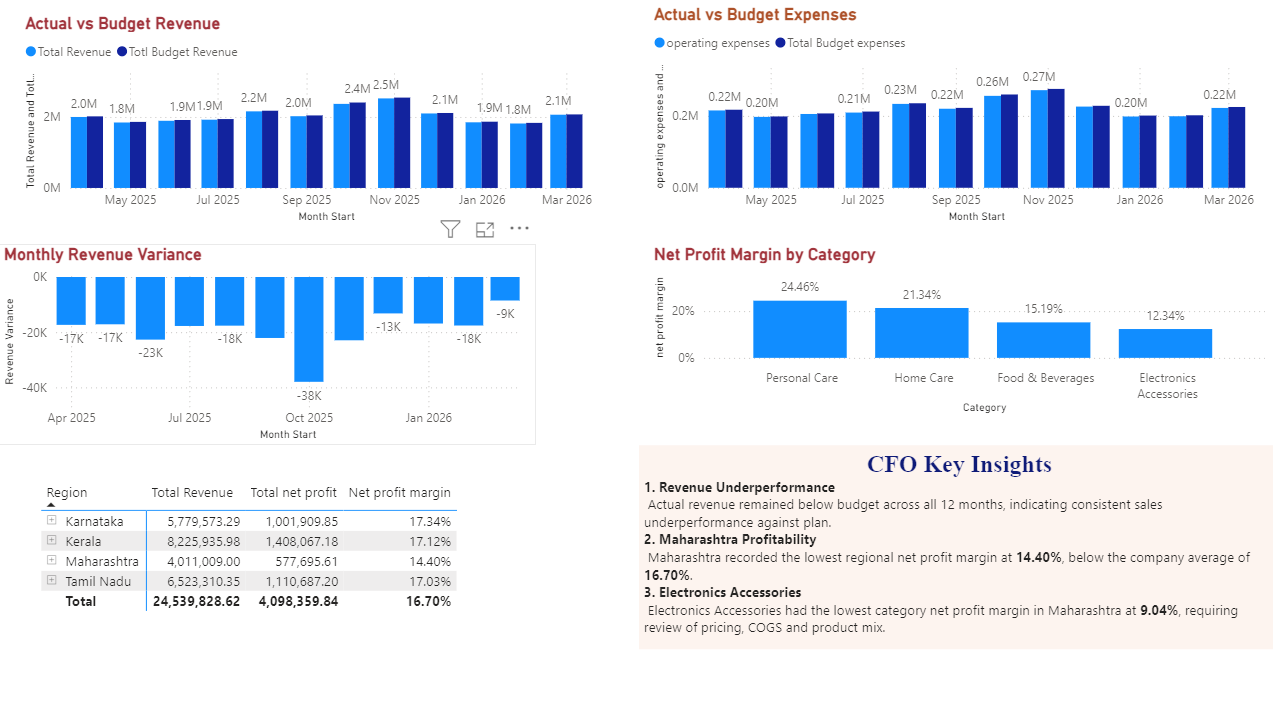

This screenshot's page, from the dashboard's own definition file:
{"tool":"powerbi","page":{"name":"Budget & Profitability Analysis","canvas":[1280,720],"ordinal":1},"visuals":[{"type":"clusteredColumnChart","title":"Actual vs Budget Revenue","fields":{"Category":["Financial data.Month Start"],"Y":["Financial data.Total Revenue","Financial data.Totl Budget Revenue"]},"box":[20.8,13.5,578.4,215.2],"z":0},{"type":"clusteredColumnChart","title":"Actual vs Budget Expenses","fields":{"Category":["Financial data.Month Start"],"Y":["Financial data.operating expenses","Financial data.Total Budget expenses"]},"box":[650.5,4.9,611.4,223.8],"z":1000},{"type":"clusteredColumnChart","title":"Monthly Revenue Variance","fields":{"Category":["Financial data.Month Start"],"Y":["Financial data.Revenue Variance"]},"box":[0,244.6,536.8,201.8],"z":2000},{"type":"clusteredColumnChart","title":"Net Profit Margin by Category","fields":{"Category":["Financial data.Category"],"Y":["Financial data.net profit margin"]},"box":[650.5,244.6,621.2,174.9],"z":3000},{"type":"pivotTable","fields":{"Rows":["Financial data.Region","Financial data.Category"],"Values":["Financial data.Total Revenue","Financial data.Total net profit","Financial data.net profit margin"]},"box":[37.9,476.9,470.8,155.3],"z":4000},{"type":"textbox","box":[639.5,446.3,640.8,204.2],"z":5000}]}

Visuals, with their boxes in screenshot pixels (x1, y1, x2, y2), scaled from the page's 1280x720 canvas onto the 1273x713 screenshot:
"Actual vs Budget Revenue" clusteredColumnChart: 21,13,596,226
"Actual vs Budget Expenses" clusteredColumnChart: 647,5,1255,226
"Monthly Revenue Variance" clusteredColumnChart: 0,242,534,442
"Net Profit Margin by Category" clusteredColumnChart: 647,242,1265,415
pivotTable - Financial data.Region x Financial data.Category: 38,472,506,626
textbox: 636,442,1272,644
